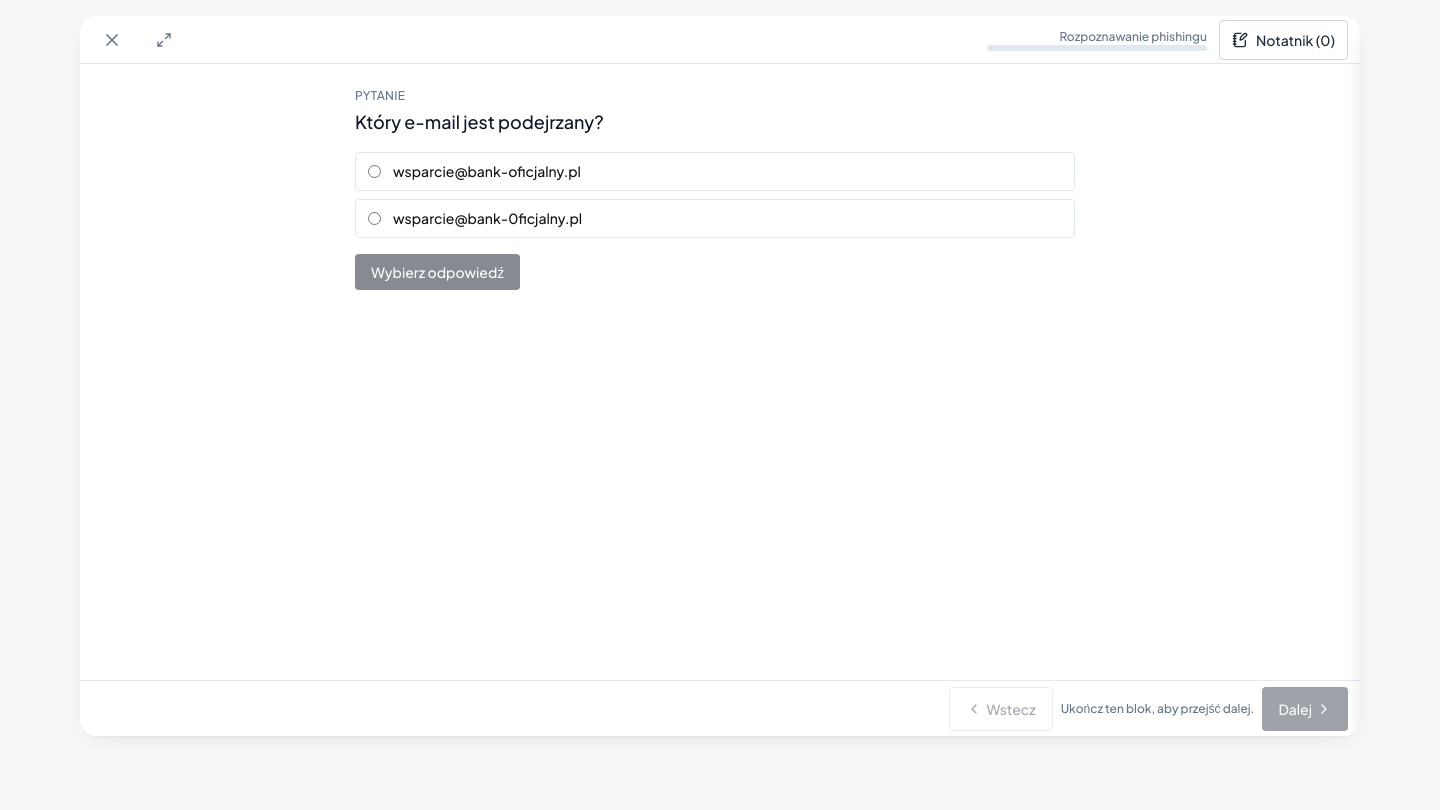
Test case: CoursePlayer - przepływ kursu jednoblokowego › start -> odpowiedź -> blok OCENIANY (QUIZ) kończący kurs: normalny ekran feedbacku z wyjaśnieniem, "Dalej" prowadzi do podsumowania z wynikiem z API (D-076: ski
Expected: the text "Który e-mail jest podejrzany?" is shown, [355, 110, 604, 133]
Click the text "wsparcie@bank-0ficjalny.pl". click: {"x": 488, "y": 218}
box: [393, 208, 582, 229]
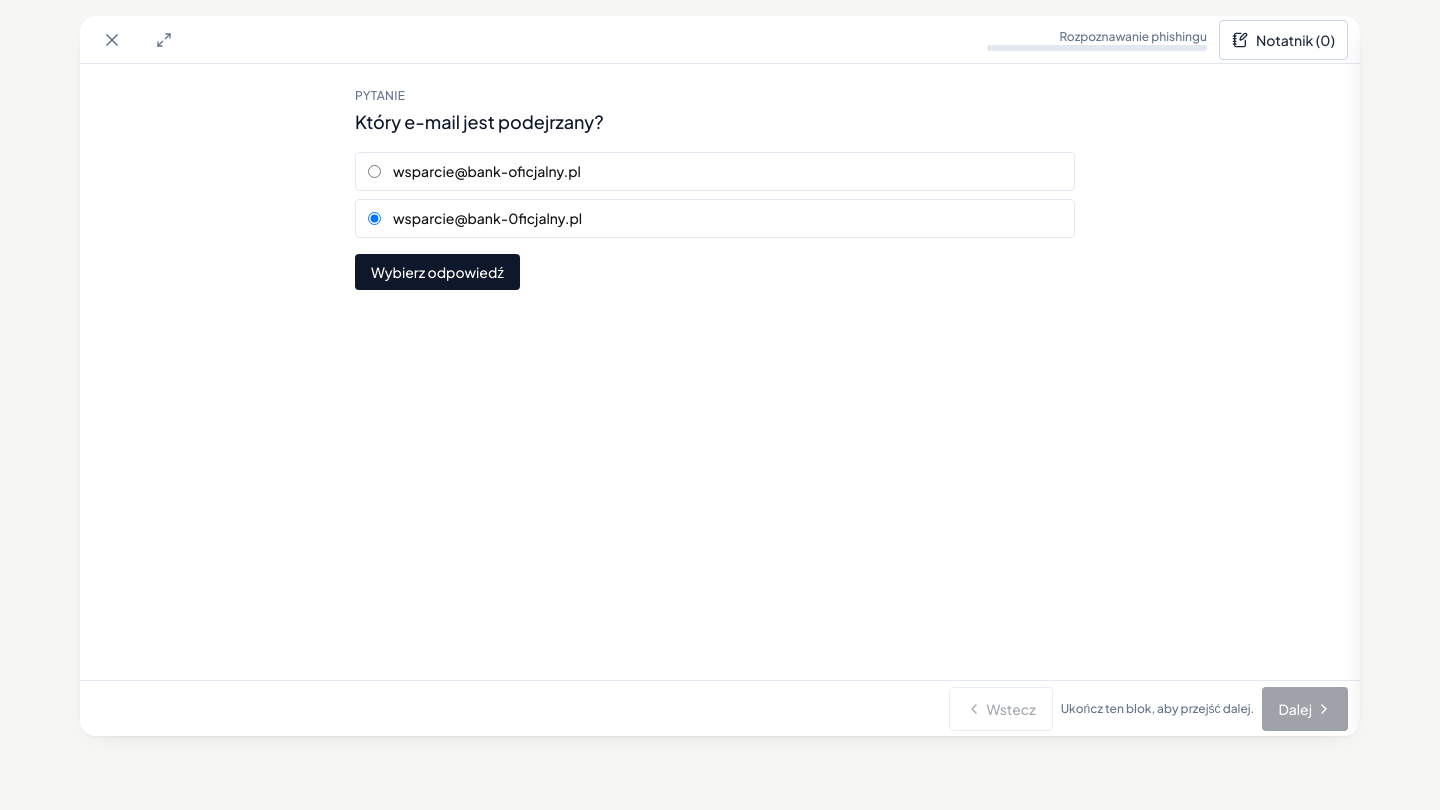
Click the button "Wybierz odpowiedź". click: {"x": 438, "y": 272}
box: [355, 254, 520, 290]
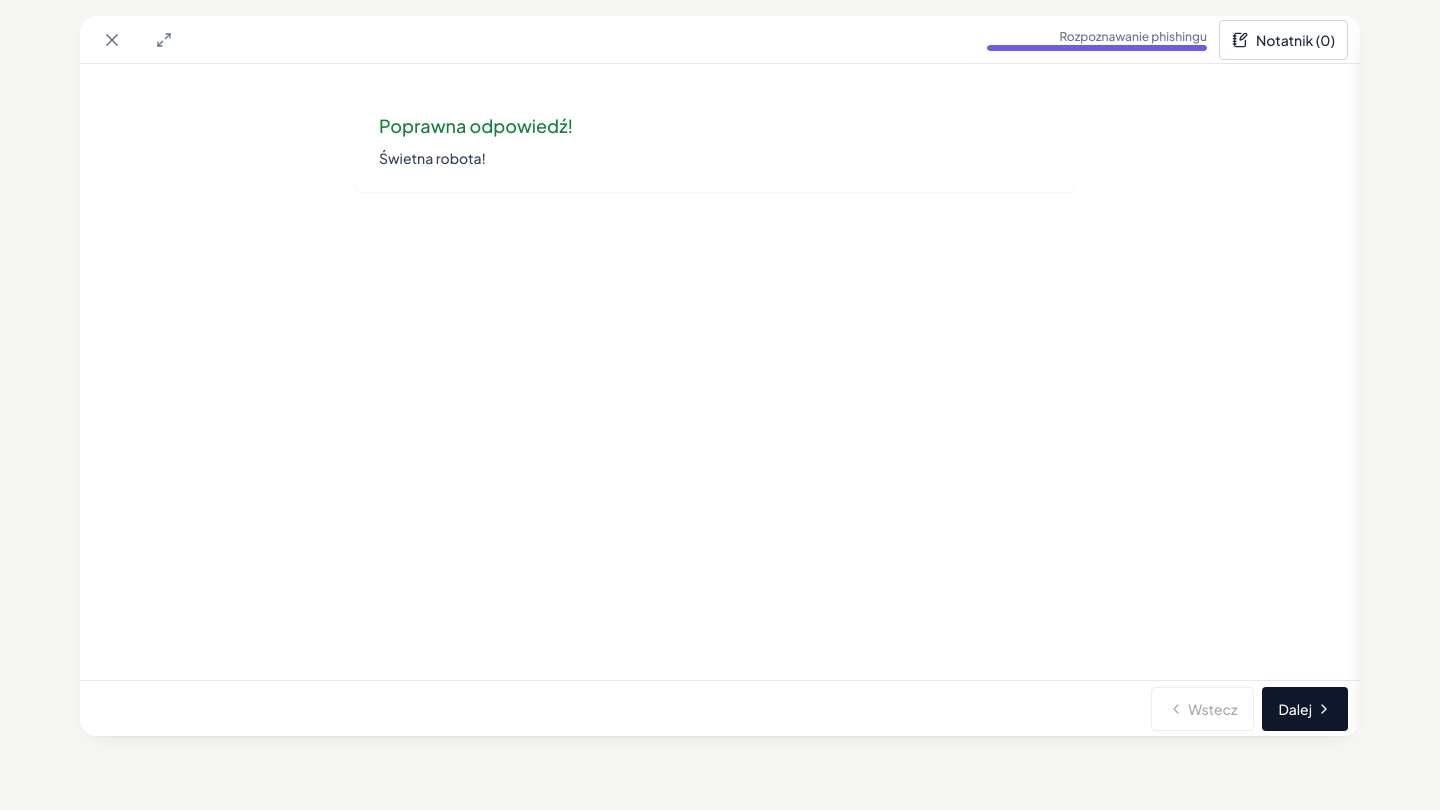
Expected: the heading "Sprawa zamknięta" is not shown
Expected: the text "Poprawna odpowiedź!" is shown, [379, 114, 573, 137]
Expected: the text with test id "feedback-reaction" reads "Świetna robota!", [379, 149, 486, 167]
Click the button "Dalej". click: {"x": 1305, "y": 708}
box: [1262, 686, 1348, 730]
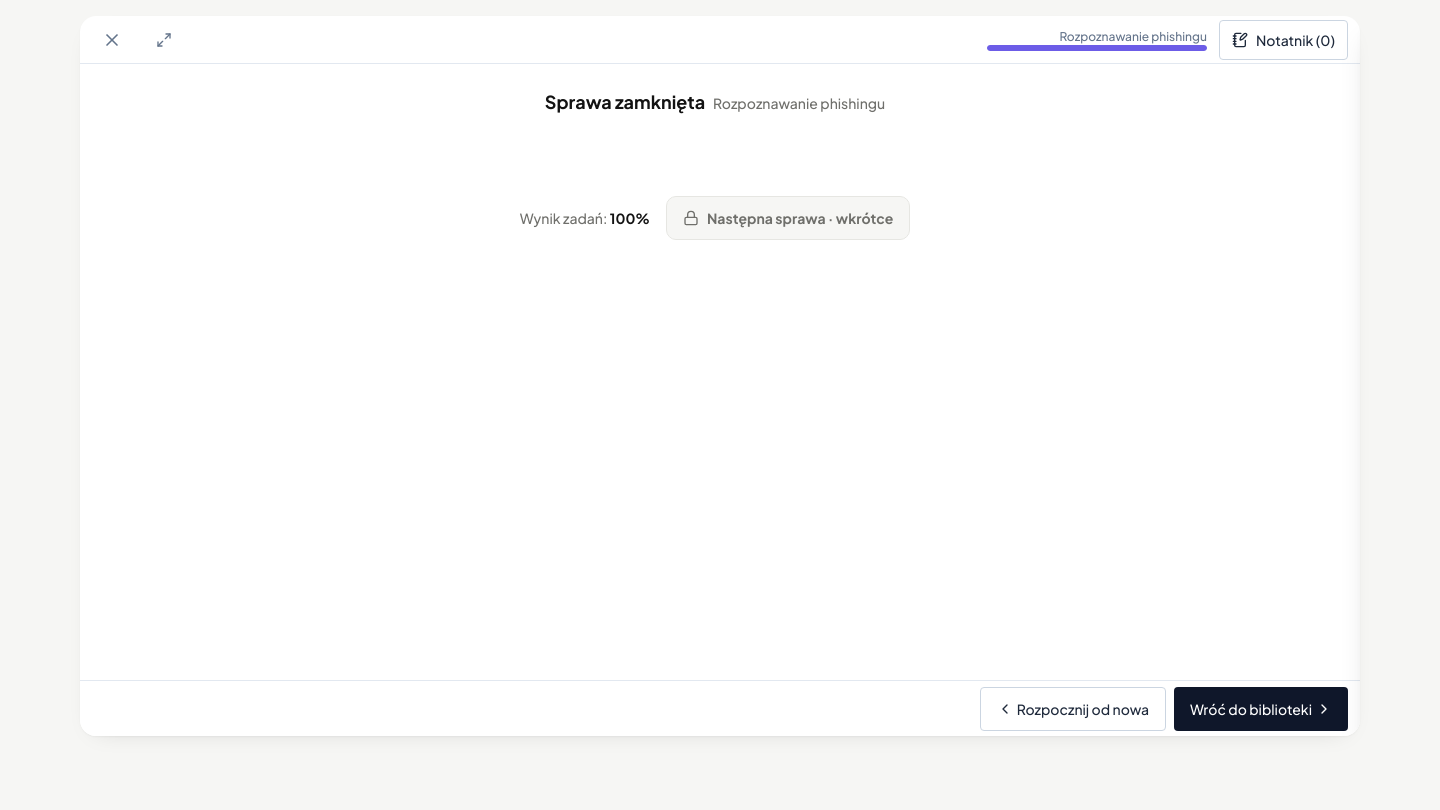
Expected: the heading "Sprawa zamknięta" is shown, [545, 88, 705, 116]
Expected: the text "Poprawna odpowiedź!" is gone
Expected: the text "100%" is shown, [610, 209, 650, 227]
